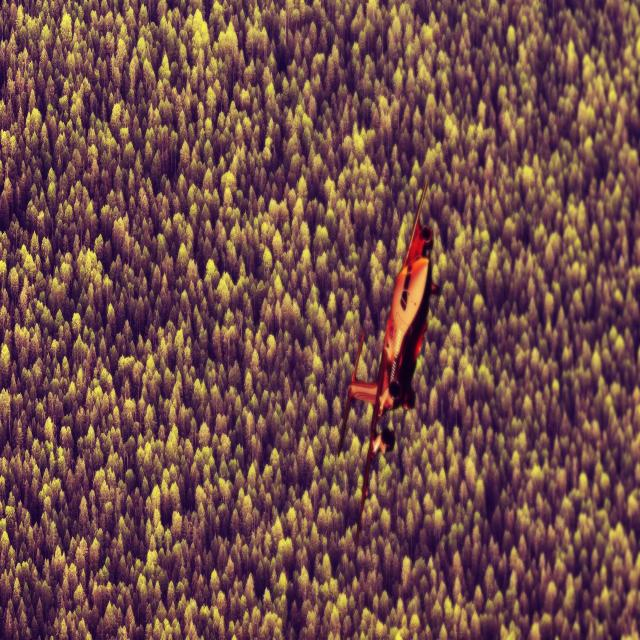airplane: (336, 176, 439, 547)
